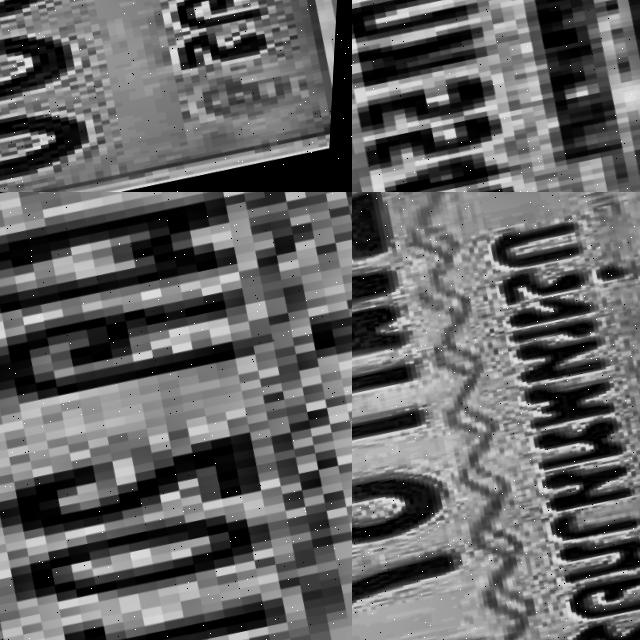license-plate: (0, 192, 352, 640), (352, 192, 640, 640), (0, 0, 352, 192), (352, 0, 640, 192)
